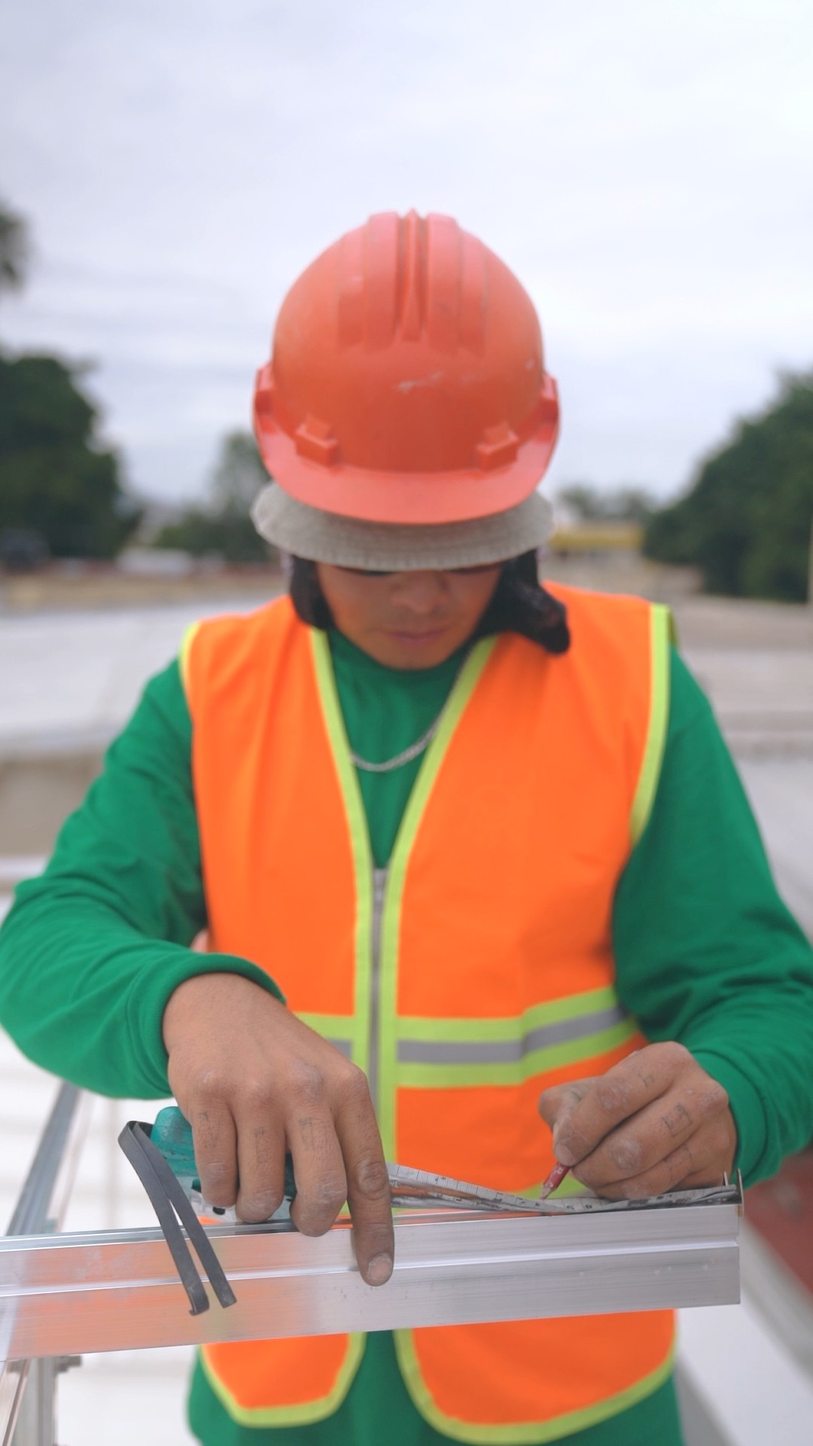No-gloves: (143, 967, 442, 1296), (525, 1000, 753, 1248)
